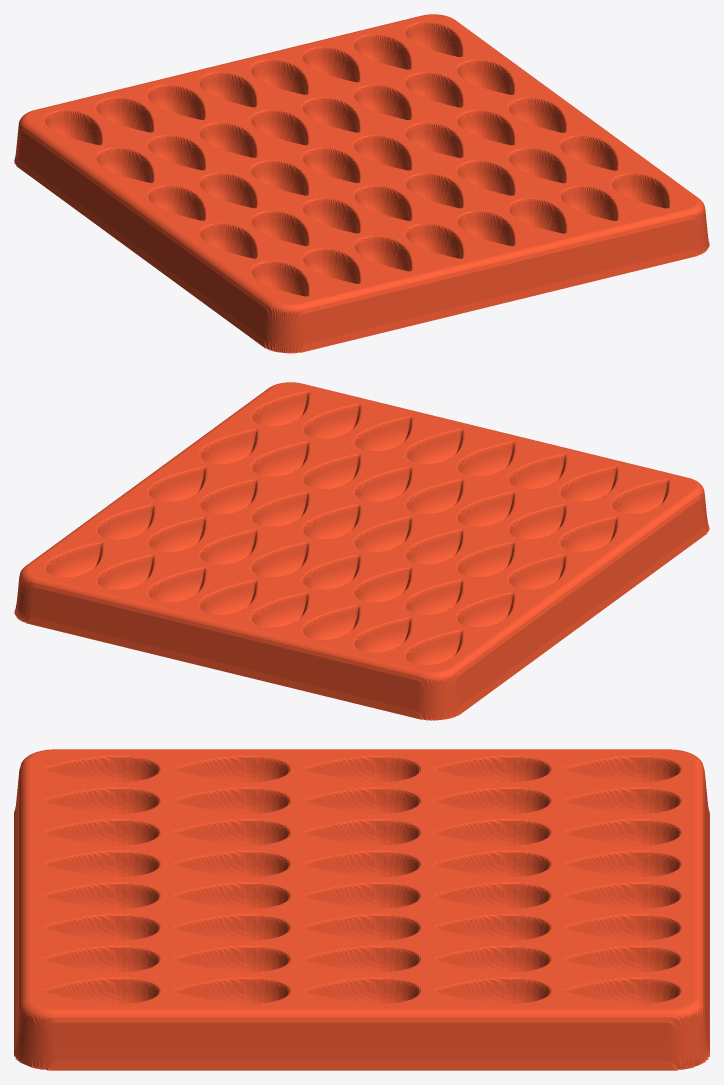
The model's file is mold.glb.
The picture shows the model from 3 angles, top to bottom: view 1: azimuth 30°, elevation 25°; view 2: azimuth 150°, elevation 25°; view 3: azimuth 270°, elevation 25°; orthographic projection. The views are drawn at different scales.
Visible parts, largest first — view 1: geometry_0; view 2: geometry_0; view 3: geometry_0.
Part boxes in pixels (x1,y1,x2,y2): geometry_0: (14, 14, 709, 353); geometry_0: (14, 382, 709, 720); geometry_0: (14, 749, 709, 1070).
Bounding box in the file's own units: 0.1454 × 0.0136 × 0.1571.
